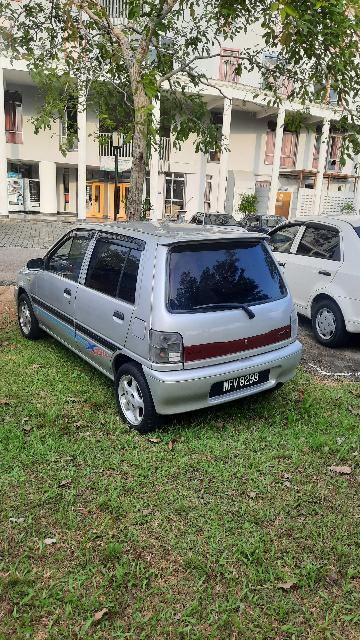License_Plate: (211, 367, 278, 398)
car: (13, 217, 305, 431), (247, 214, 358, 348)
